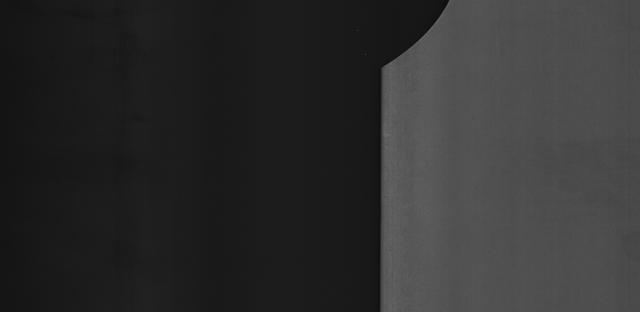crescent_gap: (343, 0, 494, 88)
